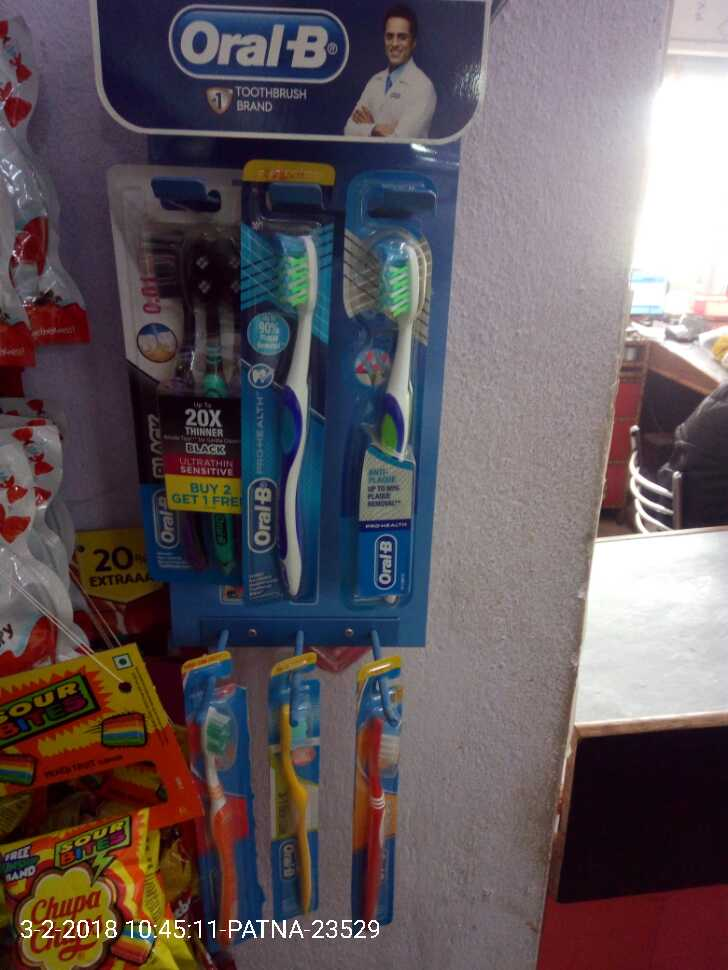oralb: (116, 162, 240, 599), (337, 194, 433, 617), (252, 163, 335, 616), (178, 659, 264, 924), (336, 670, 413, 939), (262, 664, 329, 932)
